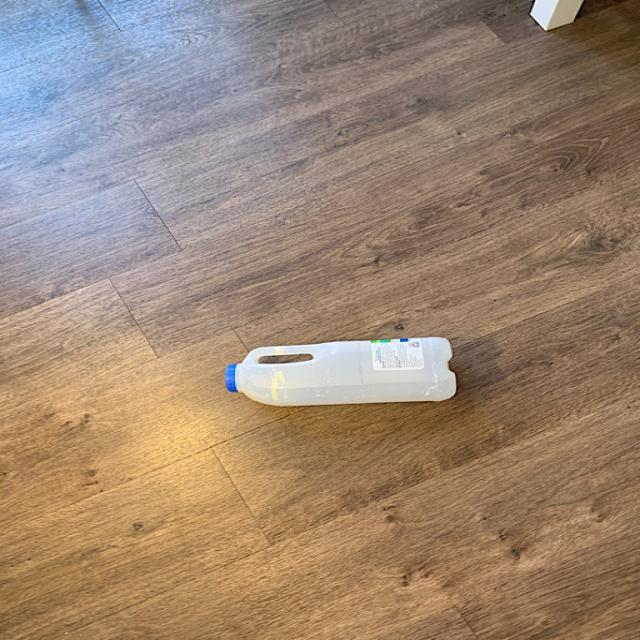litter: (221, 331, 459, 410)
